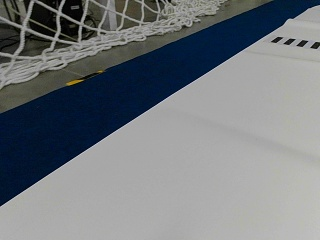crosswalk: (272, 35, 319, 48)
